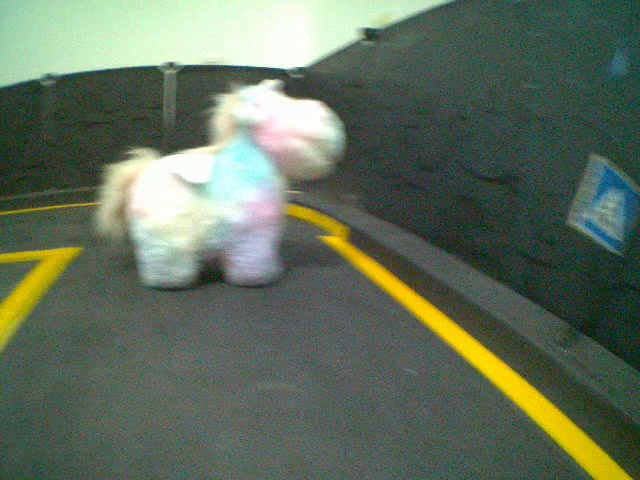unicorn: (90, 73, 348, 294)
